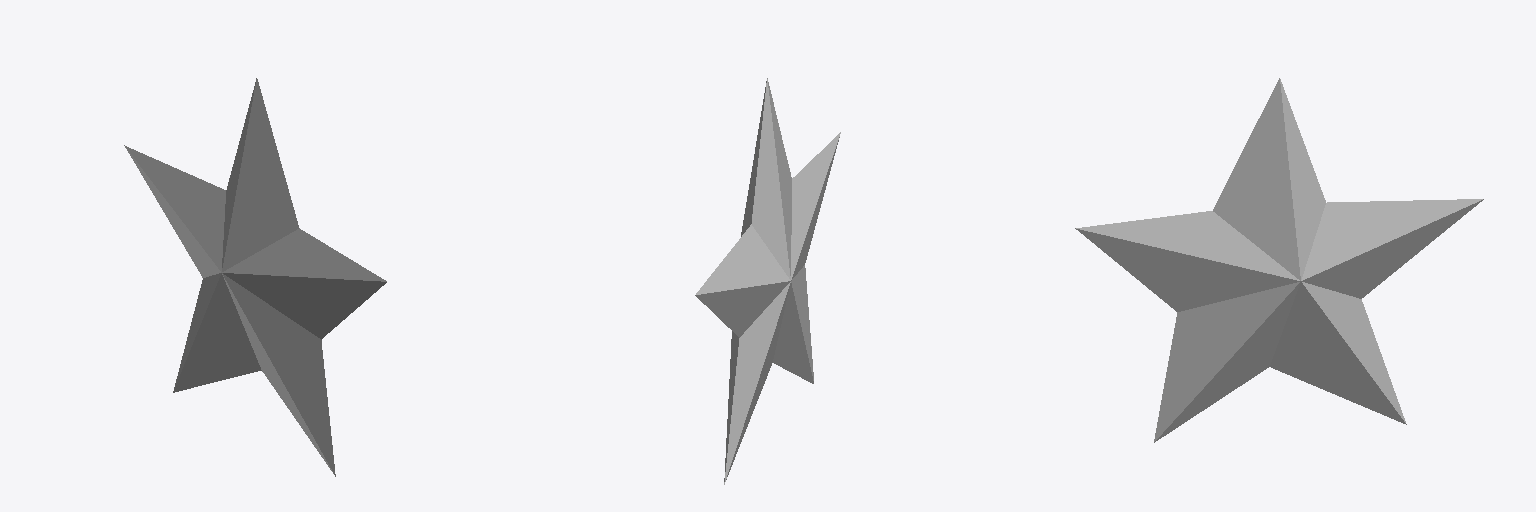
Rendered from Star4.obj.
The picture shows the model from 3 angles: view 1: azimuth 30°, elevation 25°; view 2: azimuth 150°, elevation 25°; view 3: azimuth 270°, elevation 25°; orthographic projection.
Visible parts, largest first — view 1: pCylinder1; view 2: pCylinder1; view 3: pCylinder1.
Boxes of the visible parts, box(x1,y1,x2,y2) form: pCylinder1: box(124, 78, 386, 476); pCylinder1: box(695, 78, 840, 484); pCylinder1: box(1075, 78, 1483, 442).
Bounding box in the file's own units: 0.8201 × 4.78 × 4.96.